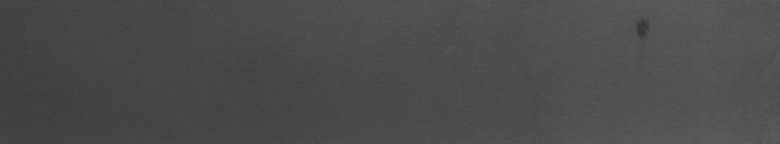fi: (632, 20, 652, 40)
